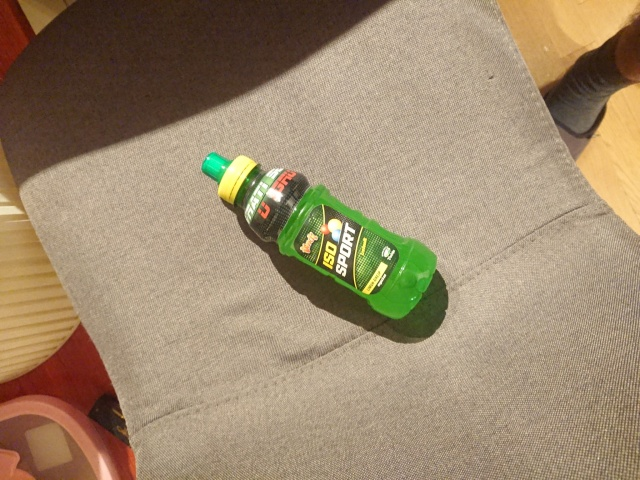Vindi Iso Sport Lemon-Grapefruit 500mL: (199, 150, 440, 322)
